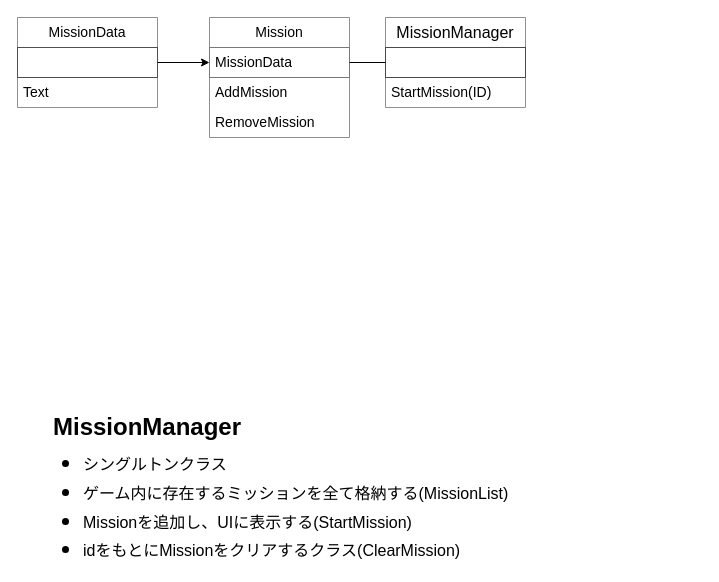
Some shapes in this 719 by 582 pixel diagram are drawn without their labels. The shapes that lost their labels are listed below. From the top down, each one's box as (x1, y1, x2, y2) in pixels, then its label:
(16, 46, 158, 78): MissionID
(384, 46, 526, 78): MissionList
